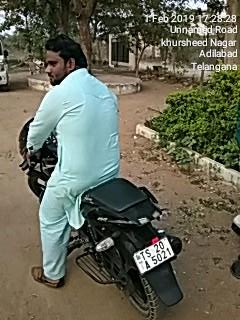plate: (131, 235, 177, 274)
